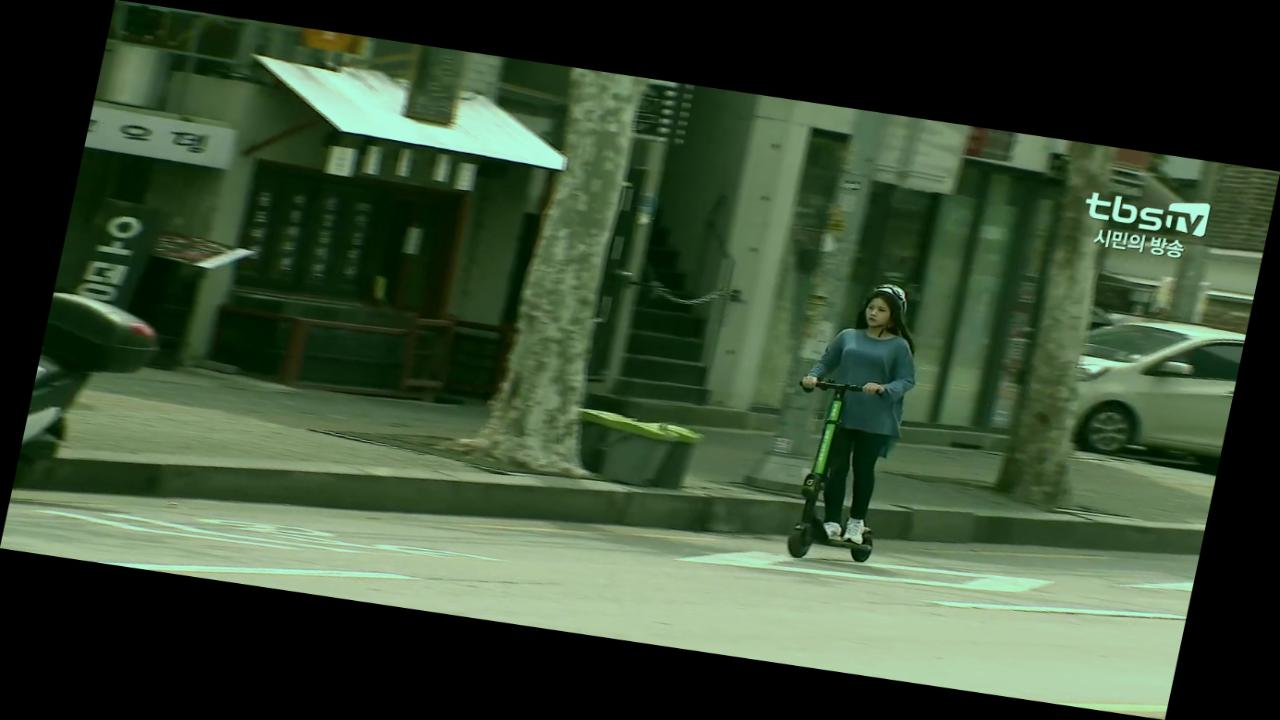helmet: (765, 274, 941, 570)
